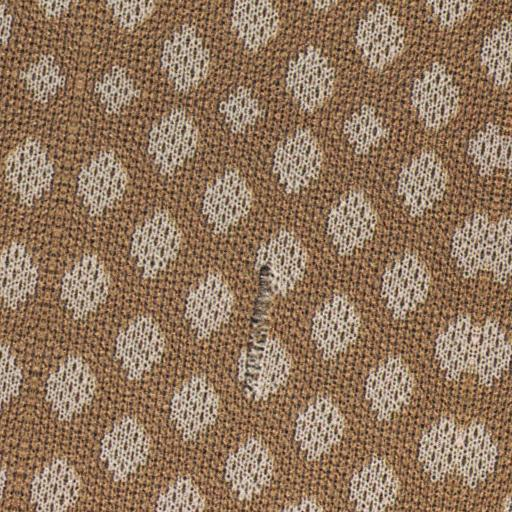slub: (235, 261, 285, 399)
